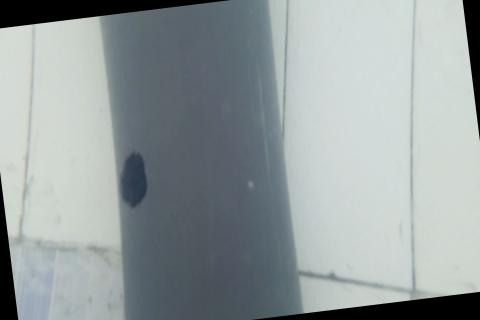kebocoran: (112, 147, 152, 213)
